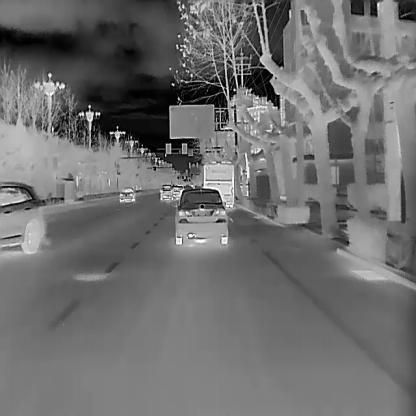car: (0, 180, 46, 255), (171, 185, 228, 244), (202, 159, 234, 207), (159, 184, 175, 199), (119, 187, 135, 201), (170, 185, 184, 199)
